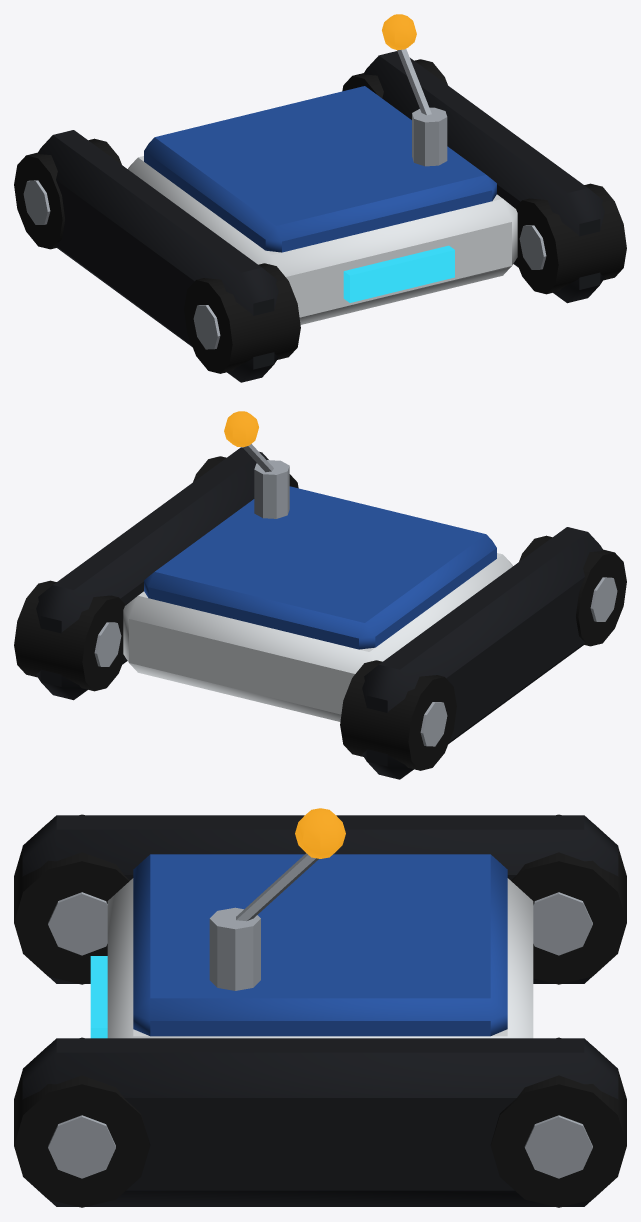
The model's file is cleaningbot_wall_window_crawler.glb.
The picture shows the model from 3 angles, top to bottom: view 1: azimuth 30°, elevation 25°; view 2: azimuth 150°, elevation 25°; view 3: azimuth 270°, elevation 25°; orthographic projection. The views are drawn at different scales.
Parts seen in each view (by area): view 1: cleaningbot_wall_window_crawler; view 2: cleaningbot_wall_window_crawler; view 3: cleaningbot_wall_window_crawler.
Boxes of the visible parts, x1,y1,x2,y2 form: cleaningbot_wall_window_crawler: (14,14,626,382); cleaningbot_wall_window_crawler: (14,411,626,779); cleaningbot_wall_window_crawler: (14,808,626,1207).
Bounding box in the file's own units: 0.76 × 0.46 × 0.72.
